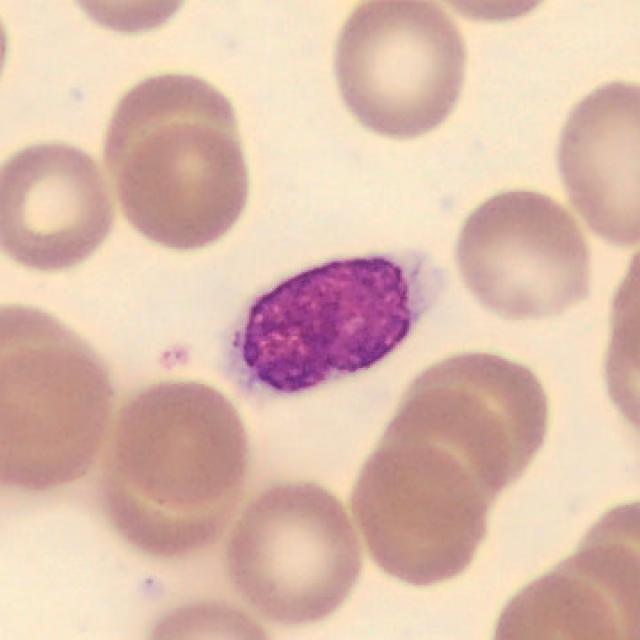Linfocito: (228, 256, 425, 391)
